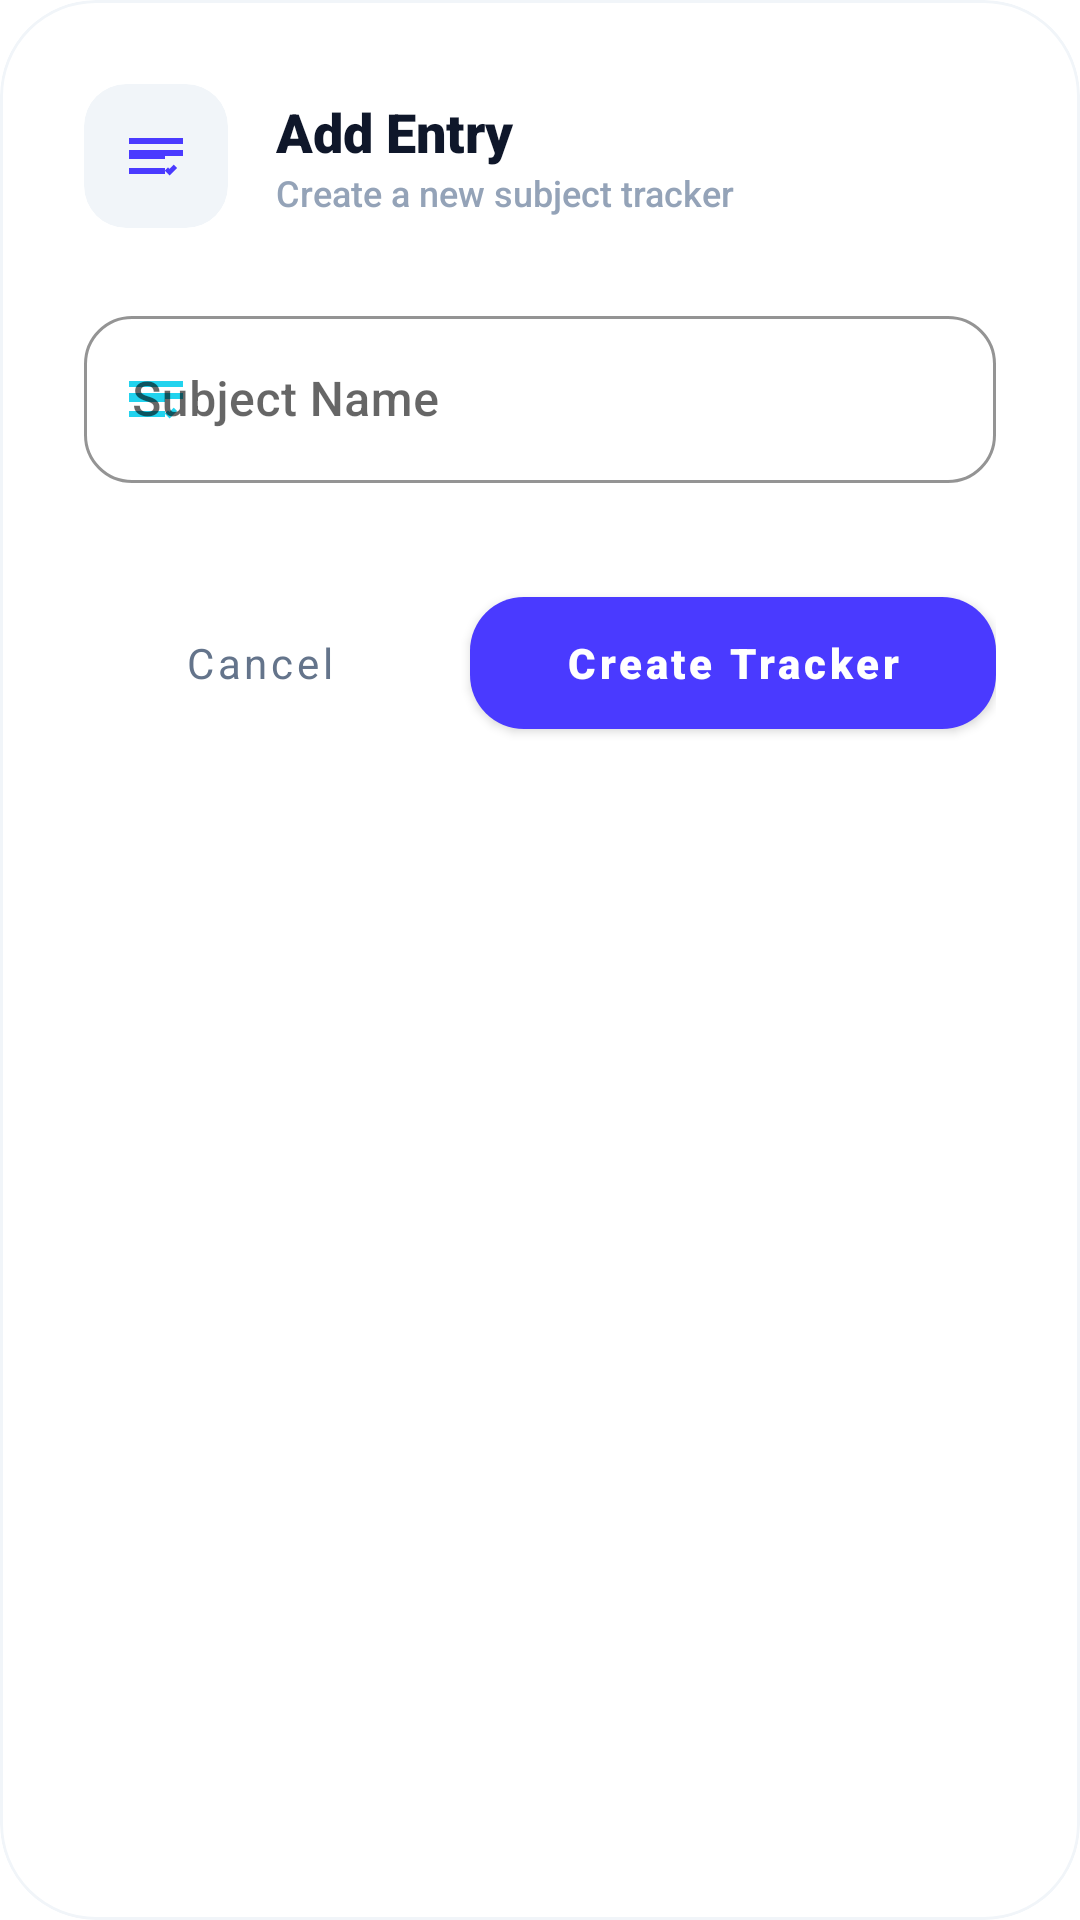

Locate icon controls on the screen. Image size 1080w x 1920h, boxes as (x1, y1, x2, y2).
notes: (129, 138, 183, 176)
